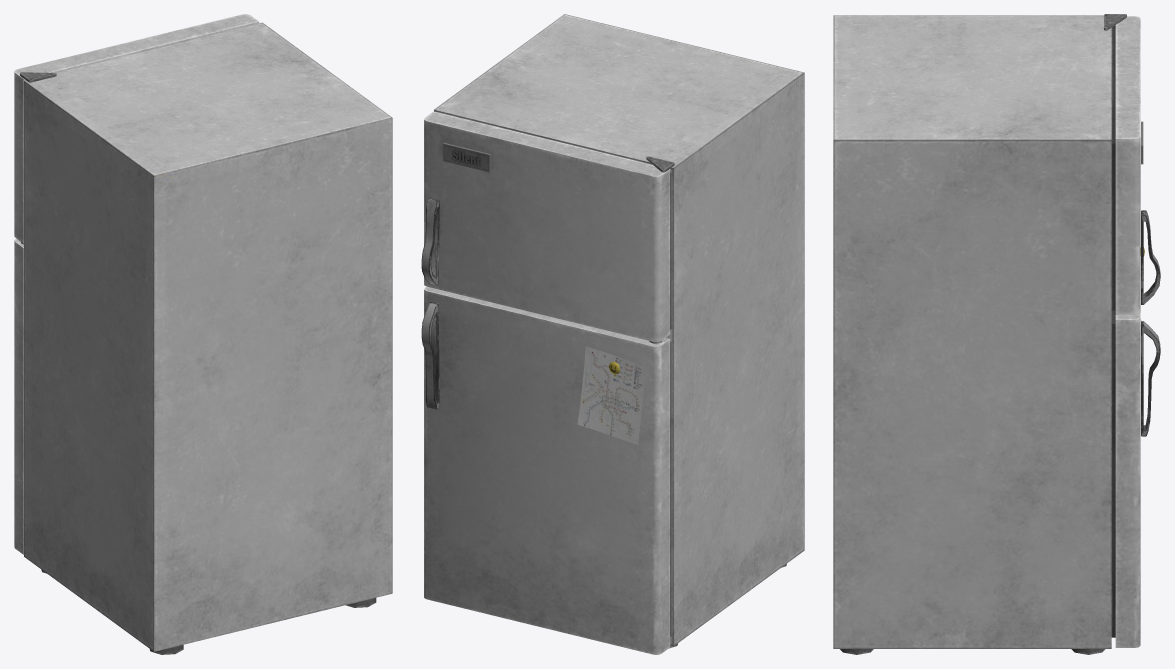
3 views of the same model, side by side, from view 1: azimuth 30°, elevation 25°; view 2: azimuth 150°, elevation 25°; view 3: azimuth 270°, elevation 25° (orthographic). The views are drawn at different scales.
Parts seen in each view (by area): view 1: Fridge_low.004; view 2: Fridge_low.004; view 3: Fridge_low.004.
Part boxes in pixels (x1=…): Fridge_low.004: x1=14, y1=14, x2=392, y2=654; Fridge_low.004: x1=421, y1=14, x2=804, y2=654; Fridge_low.004: x1=833, y1=14, x2=1160, y2=654.
Bounding box in the file's own units: 0.8637 × 1.69 × 0.9583.
1 material, 1 textured.
